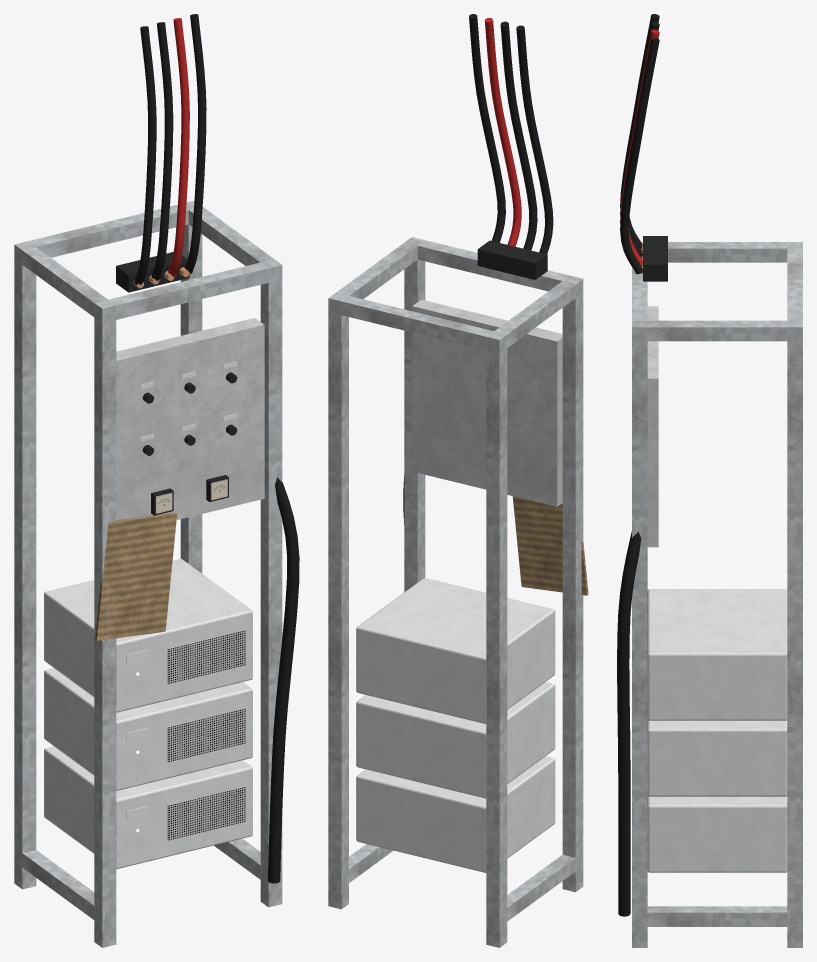
File: B10_Old_Rectifier_Rack.fbx
3 renders of one model, left to right at view 1: azimuth 30°, elevation 25°; view 2: azimuth 150°, elevation 25°; view 3: azimuth 270°, elevation 25°, orthographic. The views are drawn at different scales.
Visible parts, largest first — view 1: Control_Panel, Rectifier_Unit_3, Post.001, Post, Rectifier_Unit_2, Rectifier_Unit_1, Post.002, Cardboard, Rack_Cable_Side, Front_Top, Front_Top.001, Rectifier_Unit_2_Grill (+12 smaller); view 2: Control_Panel, Rectifier_Unit_3, Rectifier_Unit_2, Rectifier_Unit_1, Post.001, Post, Post.003, Post.002, Cardboard, Front_Top.001, Front_Top, Side_Top (+8 smaller); view 3: Rectifier_Unit_3, Rectifier_Unit_1, Rectifier_Unit_2, Post.003, Post.002, Rack_Cable_Side, Side_Top.001, Side_Low.001, Control_Panel, Side_Top, Rack_Cable_4, Front_Top.001 (+5 smaller).
Part boxes in pixels (x1,y1,x2,y2): Control_Panel: [116, 318, 264, 520]; Rectifier_Unit_3: [44, 559, 252, 712]; Post.001: [14, 246, 36, 889]; Post: [94, 304, 116, 947]; Rectifier_Unit_2: [44, 668, 252, 790]; Rectifier_Unit_1: [44, 746, 252, 869]; Post.002: [260, 279, 282, 907]; Cardboard: [95, 512, 176, 640]; Rack_Cable_Side: [267, 477, 299, 883]; Front_Top: [94, 259, 282, 322]; Front_Top.001: [16, 204, 191, 257]; Rectifier_Unit_2_Grill: [167, 708, 245, 762]; Control_Panel: [412, 299, 562, 506]; Rectifier_Unit_3: [356, 578, 555, 723]; Rectifier_Unit_2: [356, 682, 555, 798]; Rectifier_Unit_1: [356, 756, 555, 872]; Post.001: [486, 336, 507, 947]; Post: [562, 280, 583, 892]; Post.003: [328, 302, 348, 909]; Post.002: [404, 259, 425, 591]; Cardboard: [512, 496, 588, 595]; Front_Top.001: [328, 293, 507, 353]; Front_Top: [410, 237, 582, 296]; Side_Top: [486, 275, 583, 353]; Rectifier_Unit_3: [647, 589, 787, 720]; Rectifier_Unit_1: [647, 795, 787, 872]; Rectifier_Unit_2: [647, 719, 787, 796]; Post.003: [787, 328, 802, 947]; Post.002: [632, 328, 647, 947]; Rack_Cable_Side: [617, 531, 641, 916]; Side_Top.001: [632, 320, 802, 341]; Side_Low.001: [632, 906, 802, 926]; Control_Panel: [647, 306, 658, 547]; Side_Top: [668, 242, 787, 262]; Rack_Cable_4: [620, 37, 659, 274]; Front_Top.001: [787, 242, 802, 341].
Bounding box in the file's own units: 0.7152 × 3.1 × 0.5987.
Materials: 12 (7 with a texture image).
